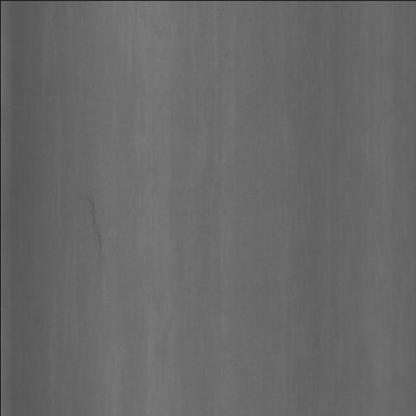water_spot: (78, 175, 112, 282)
